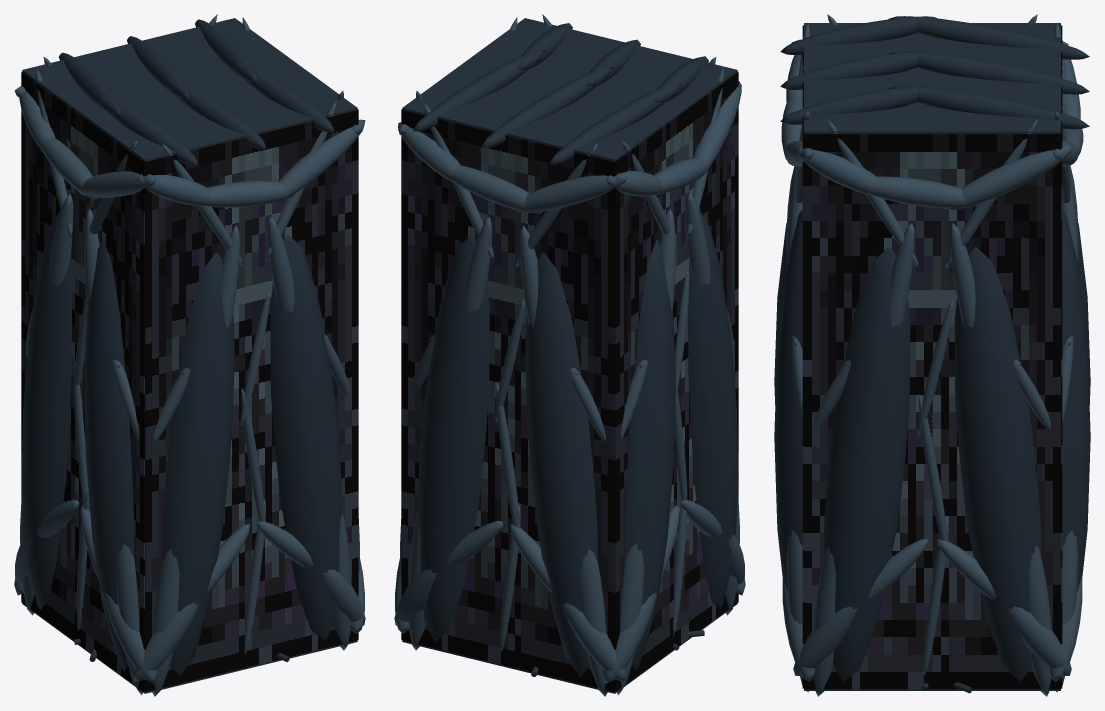
The model's file is CMU3DHiveWallXenoResinWeedbound.glb.
3 views of the same model, side by side, from view 1: azimuth 30°, elevation 25°; view 2: azimuth 150°, elevation 25°; view 3: azimuth 270°, elevation 25° (orthographic). The views are drawn at different scales.
Visible parts, largest first — view 1: broad exoskeletal fold (×4), source resin skin front and rear, source resin skin sides, continuous resin backing, arching load-bearing tendon (×11), sealed roof fold (×6), crown collar (×6), lower root buttress (×7), central interlocking seam (×6), branching surface crease (×3); view 2: broad exoskeletal fold (×4), source resin skin front and rear, source resin skin sides, continuous resin backing, arching load-bearing tendon (×11), sealed roof fold (×6), crown collar (×6), lower root buttress (×7), central interlocking seam (×6), branching surface crease (×3); view 3: source resin skin sides, broad exoskeletal fold (×6), continuous resin backing, sealed roof fold (×6), arching load-bearing tendon (×8), crown collar (×6), lower root buttress (×6), central interlocking seam (×3), branching surface crease (×4), source resin skin front and rear (×2).
Boxes of the visible parts, box(x1,y1,x2,y2) form: broad exoskeletal fold (×4): box(21, 210, 342, 676); source resin skin front and rear: box(145, 110, 358, 691); source resin skin sides: box(21, 72, 144, 691); continuous resin backing: box(22, 18, 357, 693); arching load-bearing tendon (×11): box(36, 67, 351, 696); sealed roof fold (×6): box(58, 19, 334, 165); crown collar (×6): box(19, 90, 365, 207); lower root buttress (×7): box(15, 499, 365, 683); central interlocking seam (×6): box(73, 291, 269, 653); branching surface crease (×3): box(112, 334, 349, 441); broad exoskeletal fold (×4): box(417, 210, 738, 676); source resin skin front and rear: box(401, 110, 614, 691); source resin skin sides: box(615, 72, 738, 691); continuous resin backing: box(402, 18, 737, 693); arching load-bearing tendon (×11): box(408, 67, 723, 696); sealed roof fold (×6): box(413, 23, 708, 164); crown collar (×6): box(398, 81, 741, 213); lower root buttress (×7): box(394, 500, 744, 683); central interlocking seam (×6): box(495, 269, 689, 650); branching surface crease (×3): box(410, 334, 647, 441); source resin skin sides: box(804, 134, 1060, 689); broad exoskeletal fold (×6): box(774, 210, 1090, 681); continuous resin backing: box(804, 23, 1060, 690); sealed roof fold (×6): box(780, 16, 1089, 129); arching load-bearing tendon (×8): box(786, 119, 1078, 696); crown collar (×6): box(781, 40, 1080, 209); lower root buttress (×6): box(782, 539, 1082, 681); central interlocking seam (×3): box(918, 301, 953, 674); branching surface crease (×4): box(791, 336, 1073, 428); source resin skin front and rear (×2): box(802, 25, 1062, 688).
Size of the model in its own units: 1.23 by 2.5 by 1.23.
3 materials, 1 textured.
